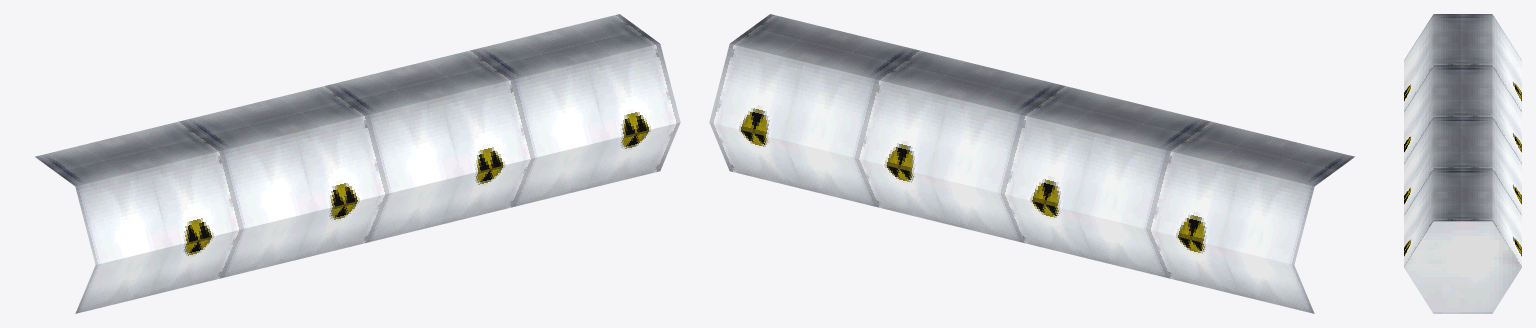
The model's file is PIPE_WHITE06.glb.
3 renders of one model, left to right at view 1: azimuth 30°, elevation 25°; view 2: azimuth 150°, elevation 25°; view 3: azimuth 270°, elevation 25°, orthographic. The views are drawn at different scales.
Visible parts, largest first — view 1: PIPE_WHITE06; view 2: PIPE_WHITE06; view 3: PIPE_WHITE06.
Part boxes in pixels (x1,y1,x2,y2): PIPE_WHITE06: (35, 14, 680, 313); PIPE_WHITE06: (709, 14, 1354, 313); PIPE_WHITE06: (1404, 14, 1521, 313).
Bounding box in the file's own units: 3364 × 701 × 809.
1 material, 1 textured.
